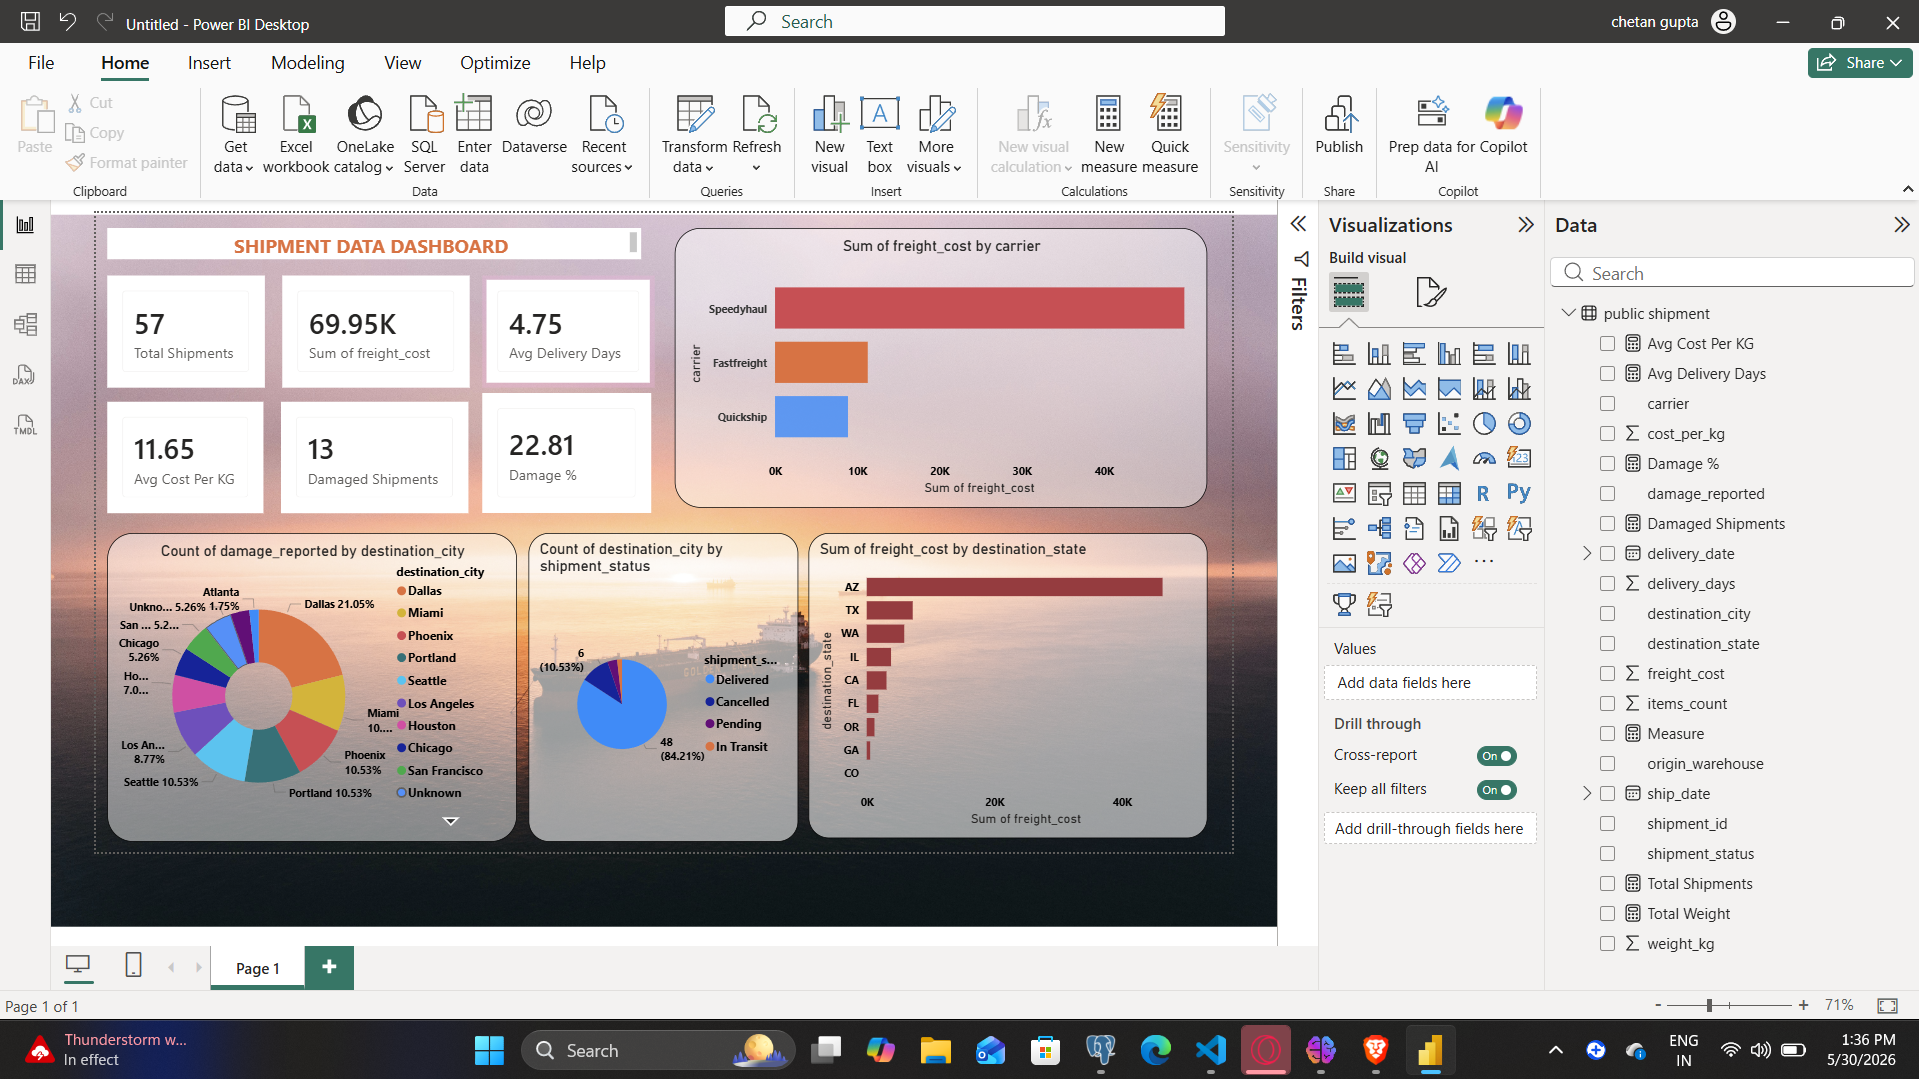

Layout of this report page (visuals, bound fields, positions):
{"tool":"powerbi","page":{"name":"Page 1","canvas":[1280,720],"ordinal":0},"visuals":[{"type":"barChart","fields":{"Category":["public shipment.carrier"],"Y":["Sum(public shipment.freight_cost)"]},"box":[652.1,16.9,600,315.5],"z":0},{"type":"donutChart","fields":{"Category":["public shipment.destination_city"],"Y":["CountNonNull(public shipment.damage_reported)"]},"box":[12.7,360.6,462,347.9],"z":1000},{"type":"barChart","fields":{"Category":["public shipment.destination_state"],"Y":["Sum(public shipment.freight_cost)"]},"box":[802.8,360.6,449.3,343.7],"z":2000},{"type":"pieChart","fields":{"Category":["public shipment.shipment_status"],"Y":["CountNonNull(public shipment.destination_city)"]},"box":[487.3,360.6,304.2,347.9],"z":3000},{"type":"cardVisual","fields":{"Data":["Sum(public shipment.freight_cost)"]},"box":[209.9,70.4,211.3,126.8],"z":4000},{"type":"cardVisual","fields":{"Data":["public shipment.Avg Delivery Days"]},"box":[435.2,70.4,194.4,126.8],"z":5000},{"type":"cardVisual","fields":{"Data":["public shipment.Total Shipments"]},"box":[12.7,70.4,177.5,126.8],"z":6000},{"type":"cardVisual","fields":{"Data":["public shipment.Avg Cost Per KG"]},"box":[12.7,212.7,176.1,125.4],"z":6001},{"type":"cardVisual","fields":{"Data":["public shipment.Damaged Shipments"]},"box":[208.5,212.7,211.3,125.4],"z":6002},{"type":"cardVisual","fields":{"Data":["public shipment.Damage %"]},"box":[435.2,202.8,190.1,135.2],"z":6003},{"type":"textbox","box":[12.7,16.9,601.4,35.2],"z":6004}]}

Visuals, with their boxes on the page's 1280x720 design canvas (x1, y1, x2, y2). These are canvas units, not pixel positions in the 1919x1079 screenshot, which may show the page scaled, cropped or inside an application window:
barChart - public shipment.carrier x Sum(public shipment.freight_cost): pyautogui.locateOnScreen(652, 17, 1252, 332)
donutChart - public shipment.destination_city x CountNonNull(public shipment.damage_reported): pyautogui.locateOnScreen(13, 361, 475, 708)
barChart - public shipment.destination_state x Sum(public shipment.freight_cost): pyautogui.locateOnScreen(803, 361, 1252, 704)
pieChart - public shipment.shipment_status x CountNonNull(public shipment.destination_city): pyautogui.locateOnScreen(487, 361, 792, 708)
cardVisual - Sum(public shipment.freight_cost): pyautogui.locateOnScreen(210, 70, 421, 197)
cardVisual - public shipment.Avg Delivery Days: pyautogui.locateOnScreen(435, 70, 630, 197)
cardVisual - public shipment.Total Shipments: pyautogui.locateOnScreen(13, 70, 190, 197)
cardVisual - public shipment.Avg Cost Per KG: pyautogui.locateOnScreen(13, 213, 189, 338)
cardVisual - public shipment.Damaged Shipments: pyautogui.locateOnScreen(208, 213, 420, 338)
cardVisual - public shipment.Damage %: pyautogui.locateOnScreen(435, 203, 625, 338)
textbox: pyautogui.locateOnScreen(13, 17, 614, 52)
